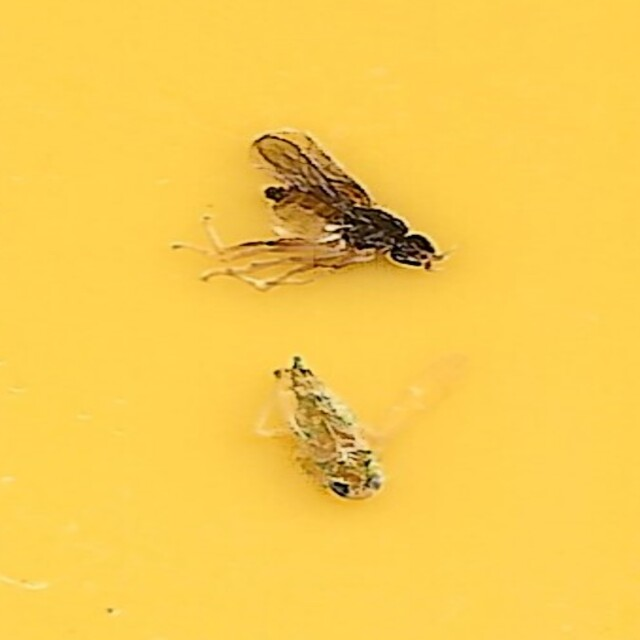Brachycera: (189, 126, 451, 295)
Hemiptera: (257, 351, 402, 514)
